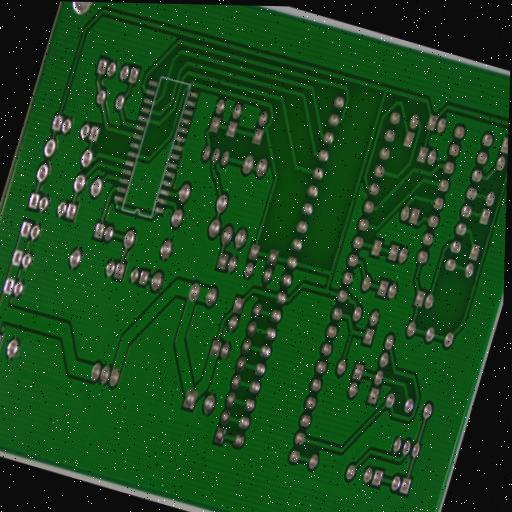mouse_bite: (167, 120, 177, 137), (213, 76, 223, 89)
